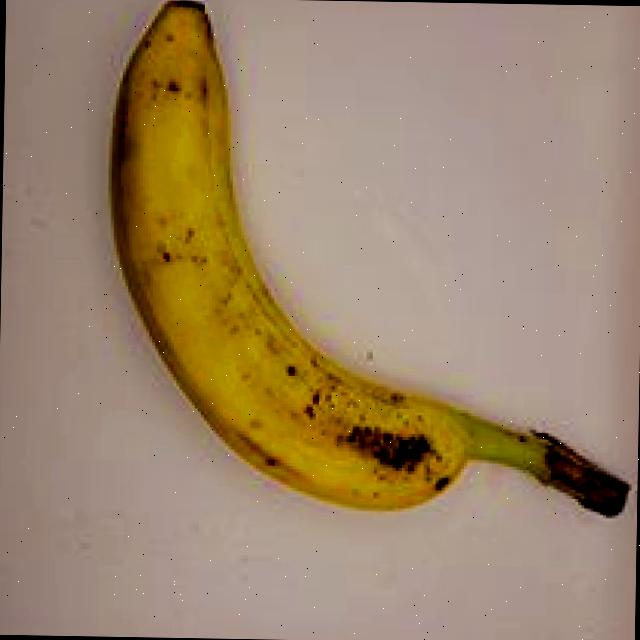Overripe: (67, 0, 640, 561)
